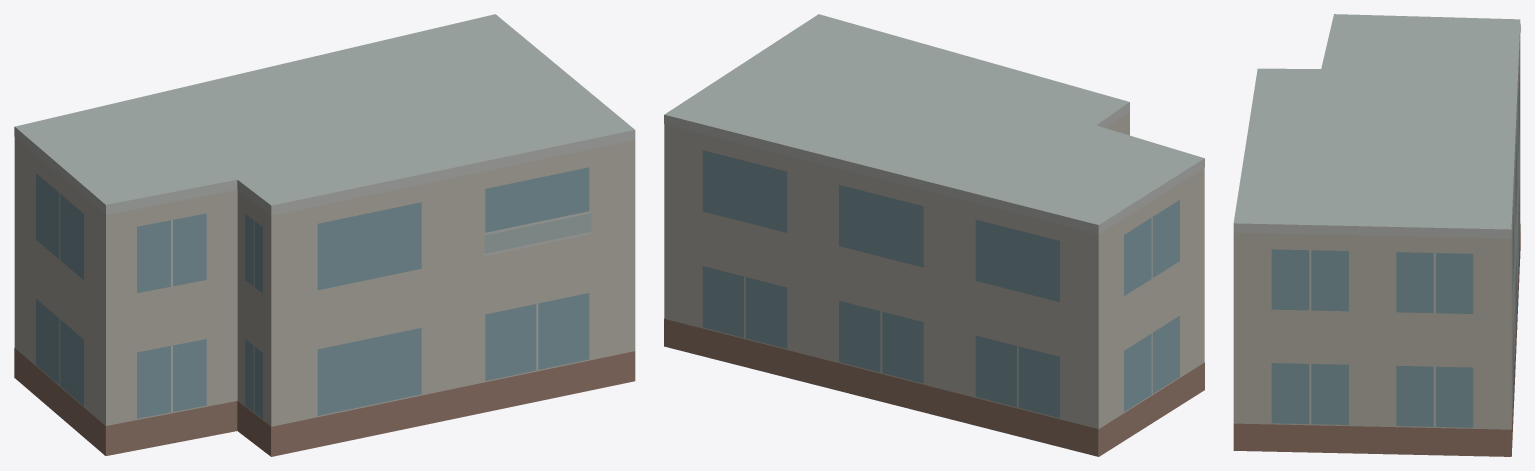
The model's file is survey-upis-32608682.glb.
3 views of the same model, side by side, from view 1: azimuth 30°, elevation 25°; view 2: azimuth 150°, elevation 25°; view 3: azimuth 270°, elevation 25° (orthographic). The views are drawn at different scales.
Parts seen in each view (by area): view 1: survey-upis-32608682.tmp; view 2: survey-upis-32608682.tmp; view 3: survey-upis-32608682.tmp.
Boxes of the visible parts, x1,y1,x2,y2 form: survey-upis-32608682.tmp: [14, 14, 635, 456]; survey-upis-32608682.tmp: [664, 14, 1204, 456]; survey-upis-32608682.tmp: [1233, 14, 1520, 456].
Size of the model in its own units: 12.41 by 6.1 by 6.99.
